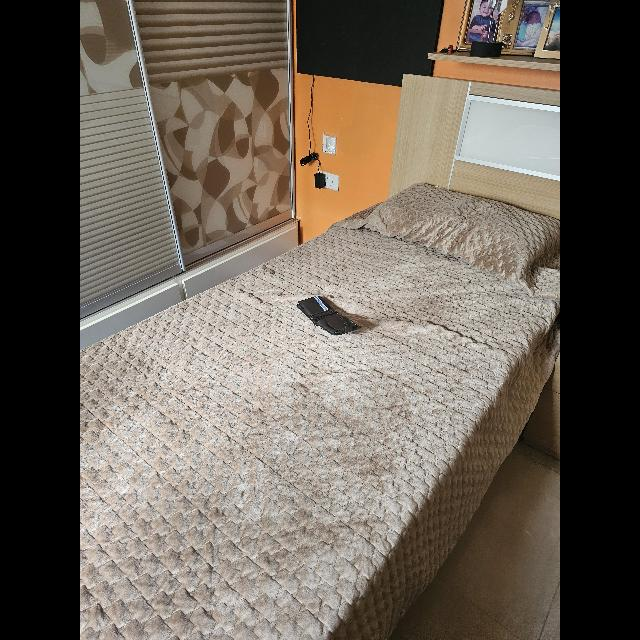Wallet: (296, 295, 360, 335)
